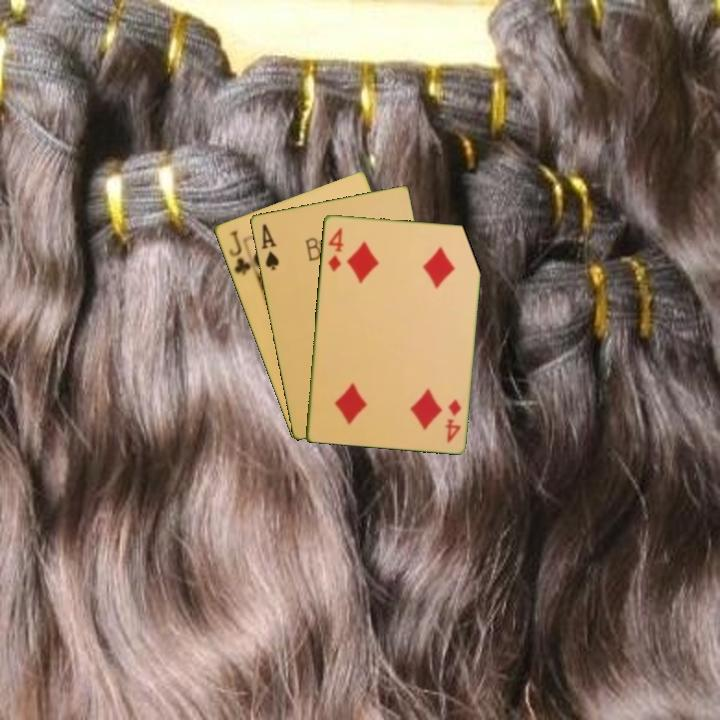4d: (324, 224, 346, 274), (442, 395, 464, 445)
As: (257, 220, 282, 273)
Jc: (225, 227, 253, 278)
